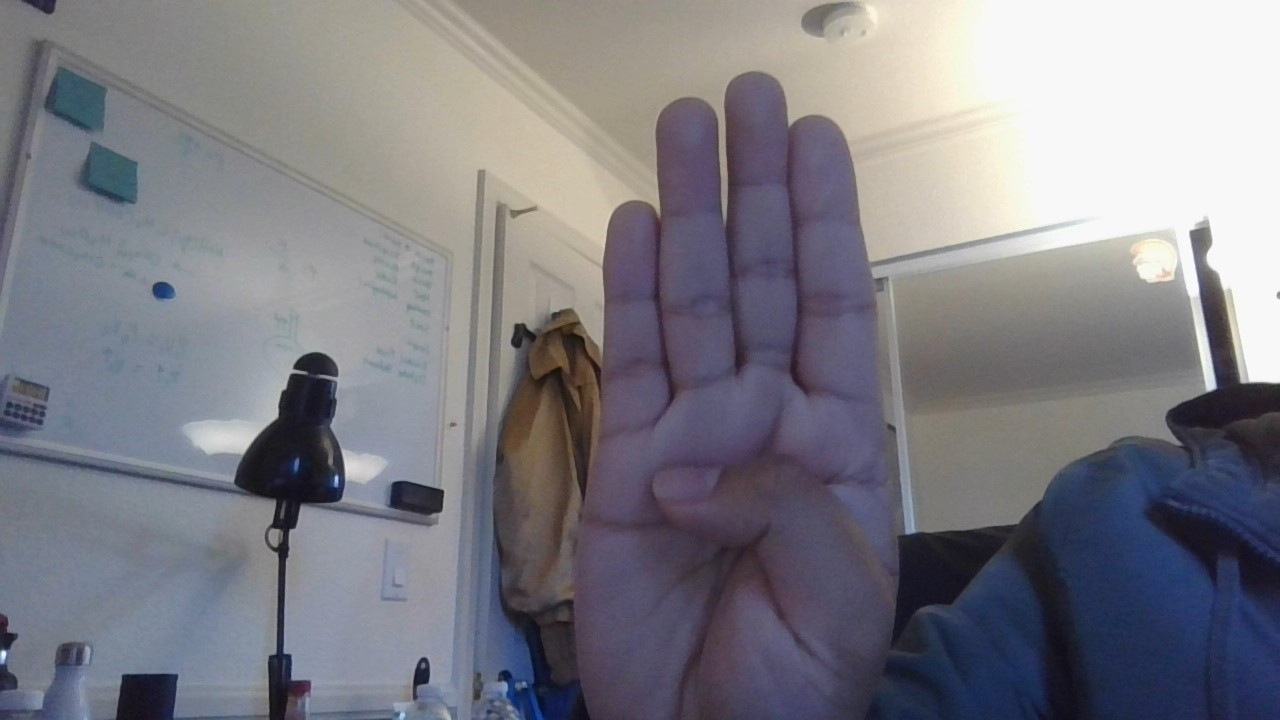b: (542, 50, 947, 720)
